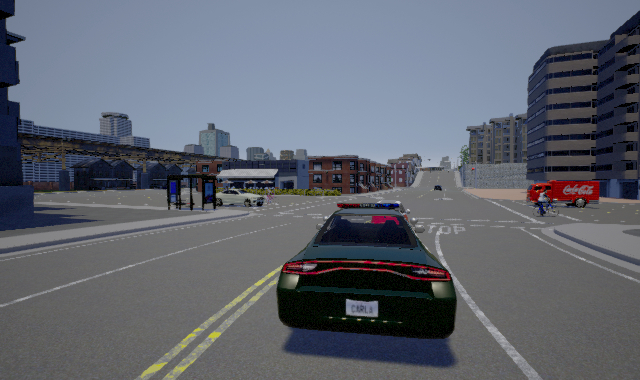bike: (530, 189, 560, 218)
vehicle: (276, 200, 457, 339), (526, 180, 599, 209), (216, 189, 264, 207)
